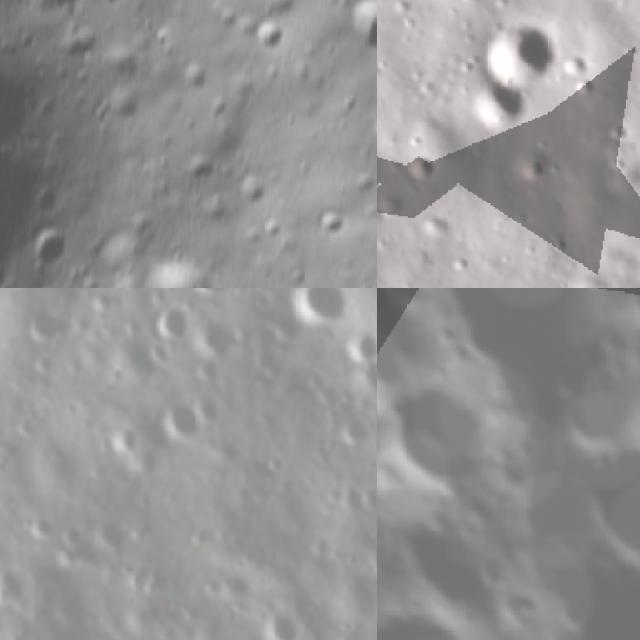crater: (388, 488, 522, 640), (552, 398, 640, 620), (377, 370, 510, 515), (377, 580, 527, 640), (377, 288, 452, 406), (115, 237, 241, 288), (482, 10, 561, 90), (16, 210, 88, 286), (468, 70, 536, 132), (320, 0, 377, 73), (282, 288, 359, 336), (15, 291, 74, 346), (146, 394, 206, 446), (225, 162, 281, 216), (96, 82, 153, 134), (243, 12, 294, 61), (173, 148, 224, 196), (90, 508, 132, 563), (315, 201, 362, 249), (100, 414, 145, 464), (152, 301, 205, 343), (36, 0, 102, 28), (377, 539, 398, 618), (612, 288, 640, 343), (516, 151, 554, 186), (0, 560, 27, 608), (406, 148, 444, 182), (262, 613, 303, 640), (0, 338, 17, 396), (191, 288, 242, 299)
